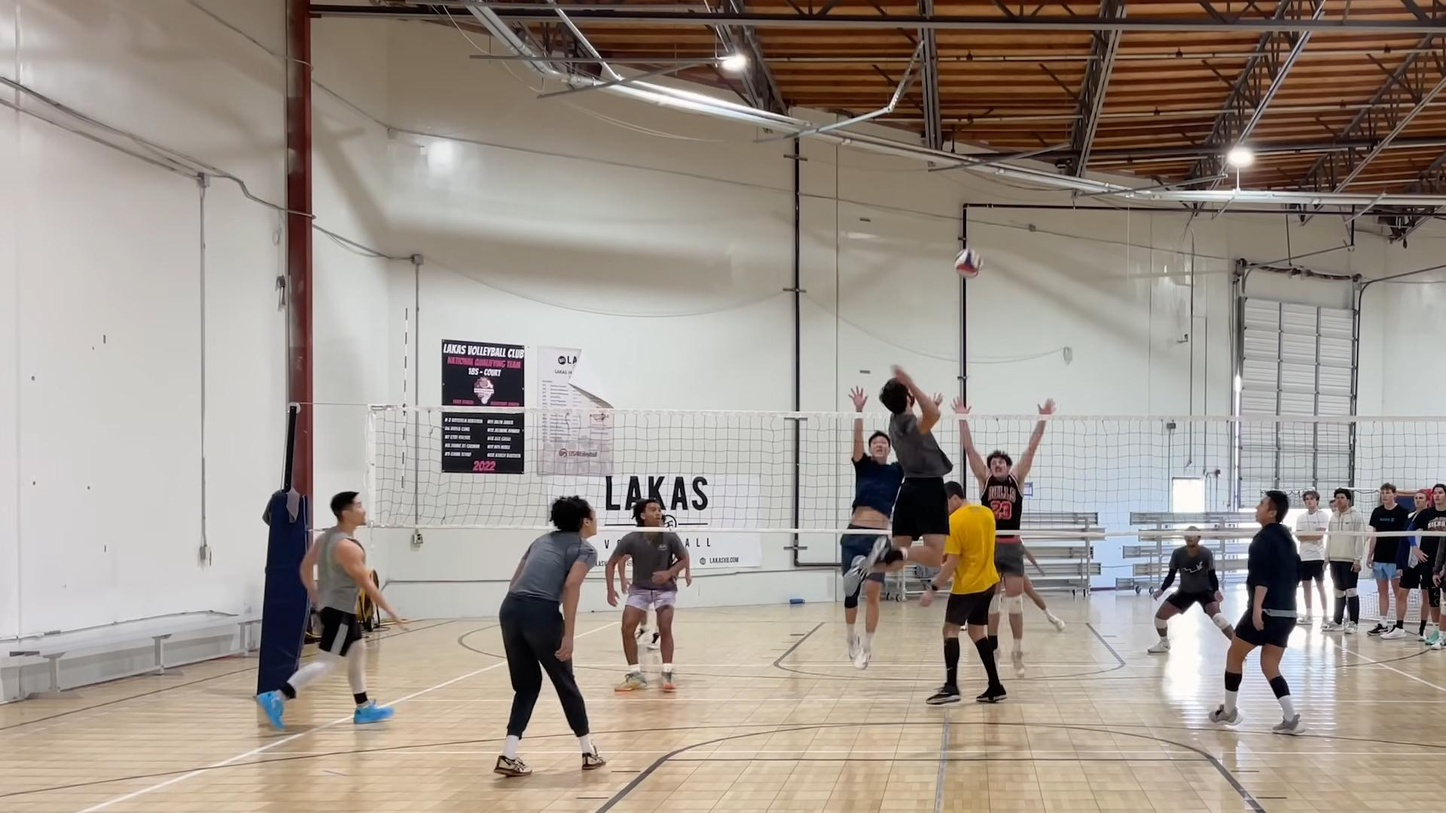Attack: (843, 362, 952, 613)
Block: (841, 390, 910, 674), (943, 381, 1060, 504)
Player: (257, 491, 402, 729), (494, 496, 605, 776), (1210, 491, 1304, 734), (921, 482, 1005, 704), (606, 498, 688, 691), (1147, 526, 1233, 653), (1024, 575, 1065, 631)
ball: (953, 245, 983, 278)
